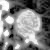node 1: (15, 10, 42, 45)
node 2: (6, 15, 14, 26)
